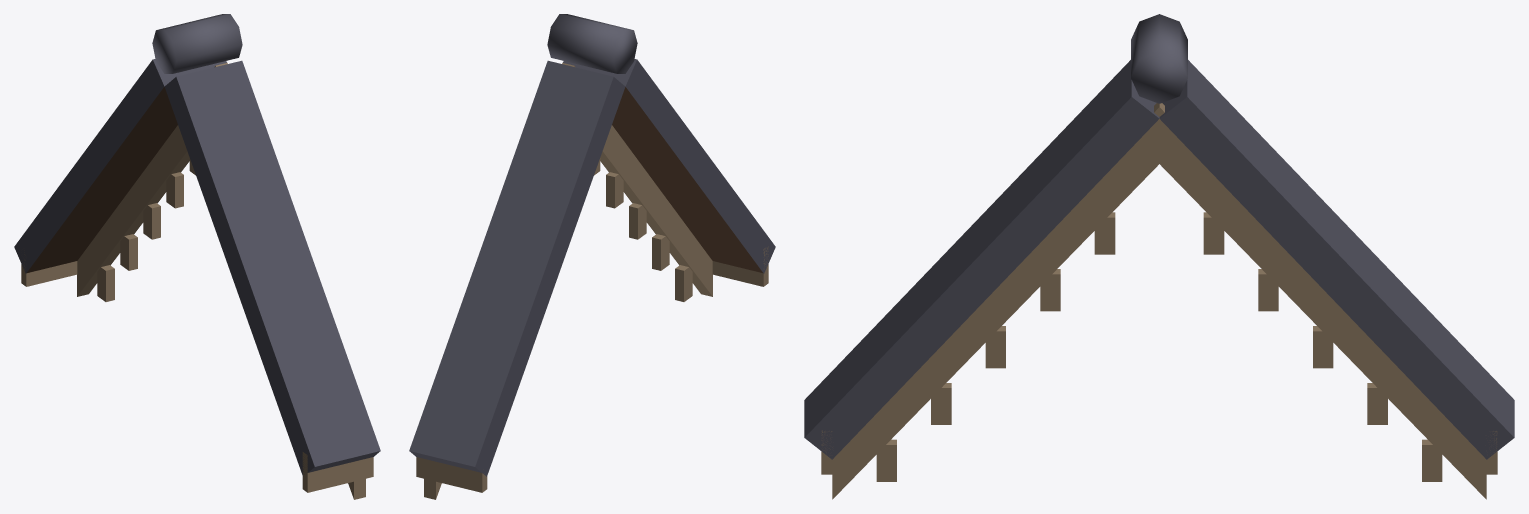
File: kit_clapboard_slate_w1_end.glb
3 views of the same model, side by side, from view 1: azimuth 30°, elevation 25°; view 2: azimuth 150°, elevation 25°; view 3: azimuth 270°, elevation 25° (orthographic). The views are drawn at different scales.
Visible parts, largest first — view 1: kit_clapboard_slate_w1_end; view 2: kit_clapboard_slate_w1_end; view 3: kit_clapboard_slate_w1_end.
Part boxes in pixels (x1,y1,x2,y2): kit_clapboard_slate_w1_end: (14, 14, 380, 499); kit_clapboard_slate_w1_end: (409, 14, 775, 499); kit_clapboard_slate_w1_end: (804, 14, 1514, 499).
Bounding box in the file's own units: 0.22 × 1.21 × 1.74.
